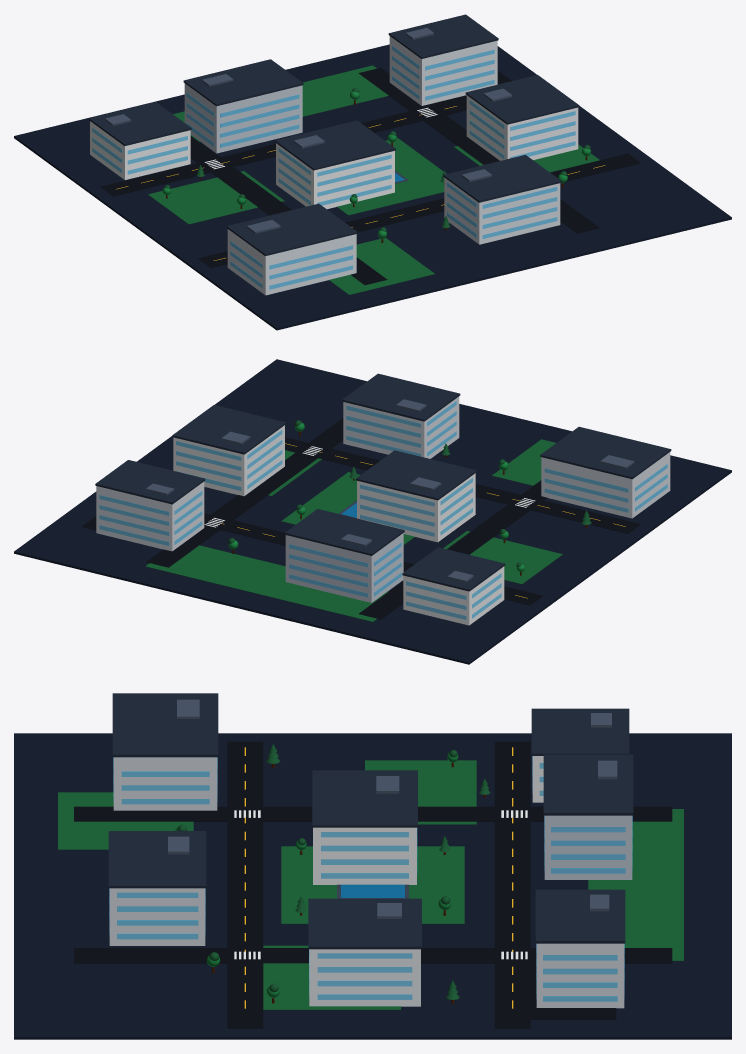
The model's file is campus_overview.glb.
3 views of the same model, one above another, from view 1: azimuth 30°, elevation 25°; view 2: azimuth 150°, elevation 25°; view 3: azimuth 270°, elevation 25° (orthographic). The views are drawn at different scales.
Visible parts, largest first — view 1: SiteGround, engineering_exterior_mesh, sports, academic, sports_exterior_mesh, auditorium, innovation_exterior_mesh, engineering, library, auditorium_exterior_mesh, academic_exterior_mesh, library_exterior_mesh (+12 smaller); view 2: SiteGround, engineering_exterior_mesh, sports, Lawn_3, academic, innovation_exterior_mesh, sports_exterior_mesh, engineering, auditorium, library, academic_exterior_mesh, auditorium_exterior_mesh (+11 smaller); view 3: SiteGround, Road_1, Road_0, sports, academic, library, auditorium, Lawn_3, engineering, innovation, library_exterior_mesh, Lawn_0 (+15 smaller).
Part boxes in pixels (bbox=[...]): SiteGround: bbox=[14, 44, 731, 330]; engineering_exterior_mesh: bbox=[184, 83, 302, 153]; sports: bbox=[226, 203, 357, 289]; academic: bbox=[275, 120, 395, 205]; sports_exterior_mesh: bbox=[227, 229, 356, 295]; auditorium: bbox=[443, 155, 561, 238]; innovation_exterior_mesh: bbox=[389, 36, 497, 105]; engineering: bbox=[183, 59, 303, 147]; library: bbox=[465, 75, 579, 159]; auditorium_exterior_mesh: bbox=[444, 177, 560, 244]; academic_exterior_mesh: bbox=[276, 143, 394, 209]; library_exterior_mesh: bbox=[466, 95, 578, 160]; SiteGround: bbox=[14, 359, 731, 664]; engineering_exterior_mesh: bbox=[285, 533, 403, 602]; sports: bbox=[540, 426, 671, 512]; Lawn_3: bbox=[145, 545, 388, 621]; academic: bbox=[356, 450, 476, 536]; innovation_exterior_mesh: bbox=[96, 481, 204, 551]; sports_exterior_mesh: bbox=[541, 452, 670, 518]; engineering: bbox=[284, 509, 404, 597]; auditorium: bbox=[342, 373, 460, 456]; library: bbox=[172, 405, 285, 490]; academic_exterior_mesh: bbox=[357, 473, 475, 542]; auditorium_exterior_mesh: bbox=[343, 396, 459, 458]; SiteGround: bbox=[14, 733, 731, 1039]; Road_1: bbox=[227, 741, 263, 1028]; Road_0: bbox=[494, 741, 530, 1028]; sports: bbox=[112, 693, 218, 804]; academic: bbox=[312, 770, 417, 878]; library: bbox=[308, 898, 421, 999]; auditorium: bbox=[108, 831, 206, 939]; Lawn_3: bbox=[588, 809, 683, 960]; engineering: bbox=[543, 754, 633, 873]; innovation: bbox=[535, 889, 625, 1001]; library_exterior_mesh: bbox=[309, 949, 420, 1006]; Lawn_0: bbox=[281, 846, 464, 923].
Bounding box in the file's own units: 180 × 20.2 × 180.
